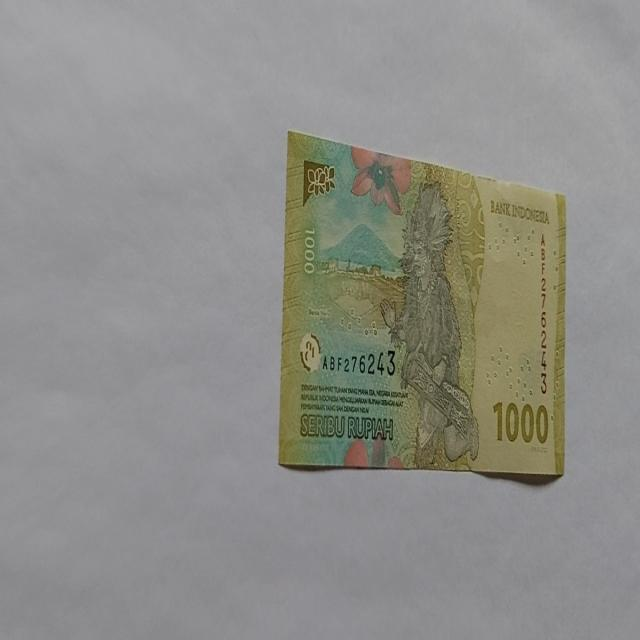seribu rupiah kertas: (277, 128, 567, 476)
